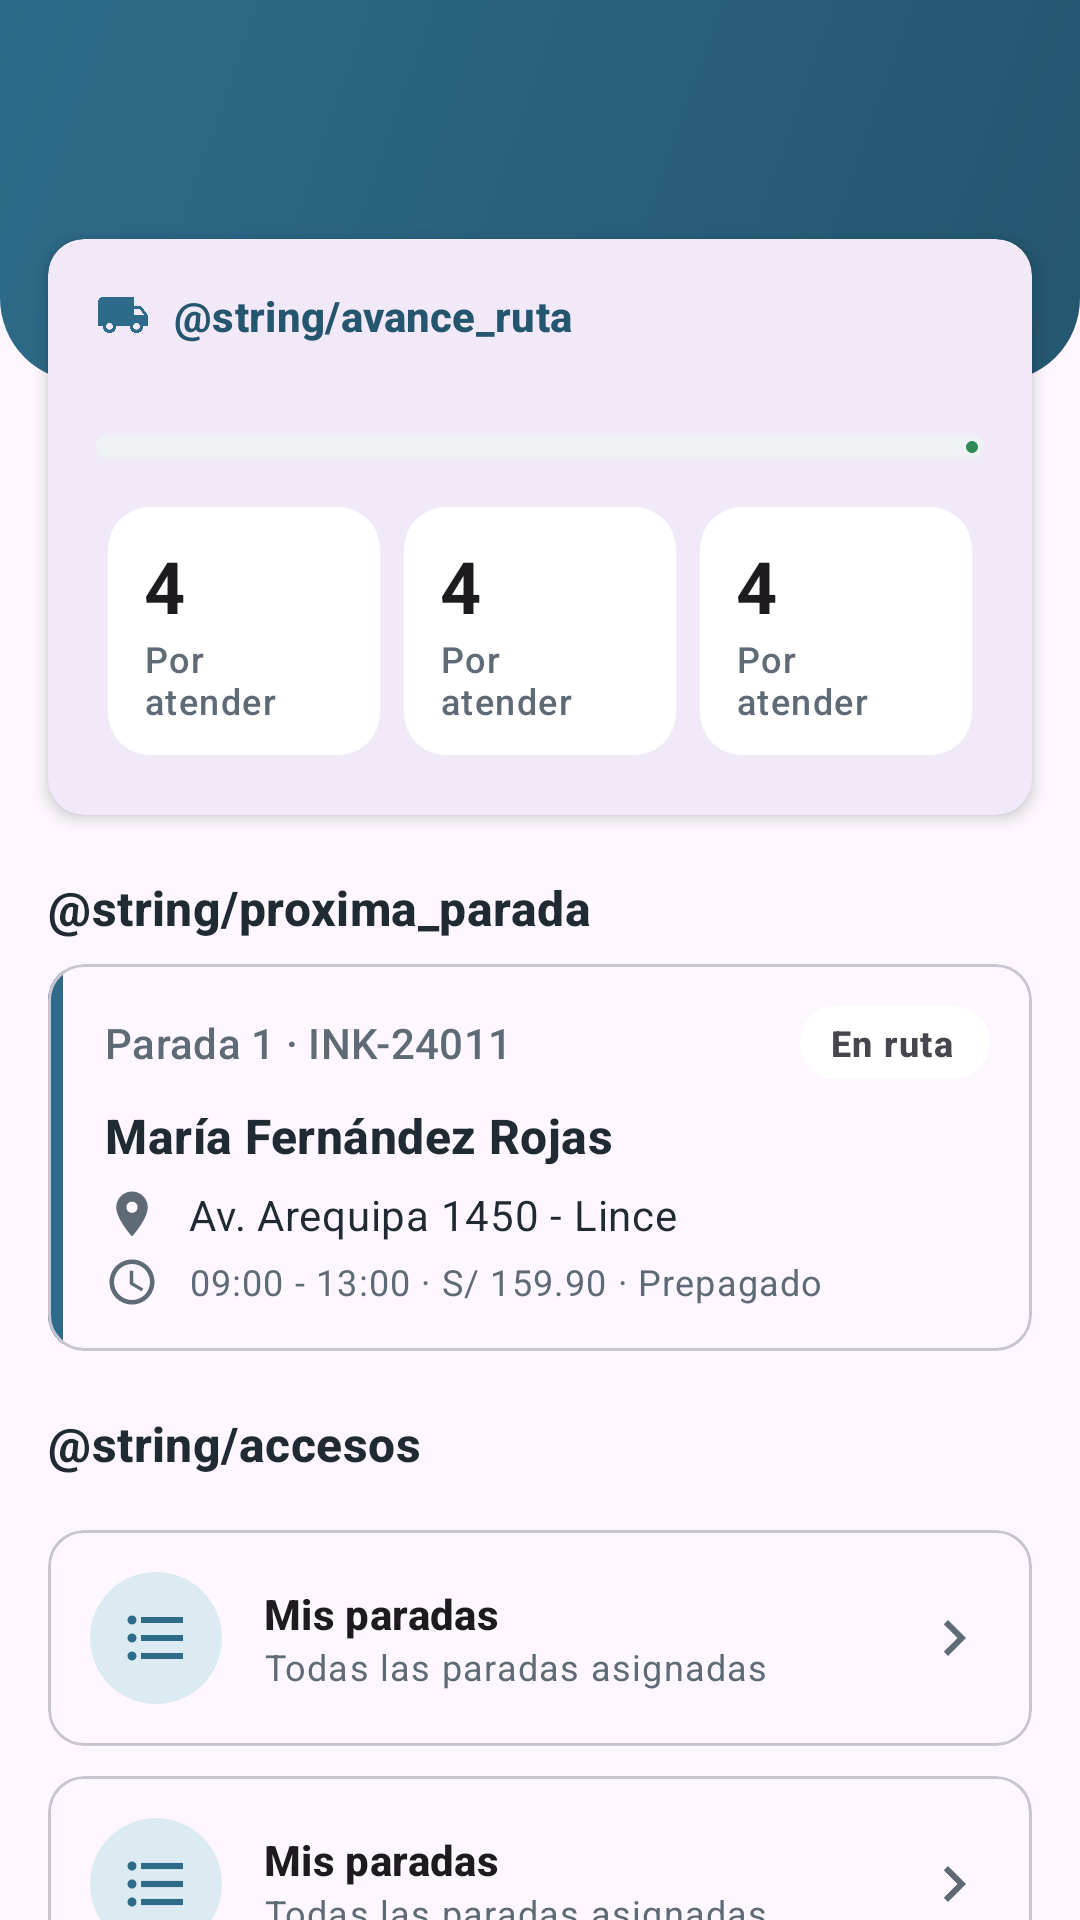

Icon click points for this 1080 x 1920 phone screenshot, format [x,y]:
flecha derecha: [955,1638], [955,1884]
